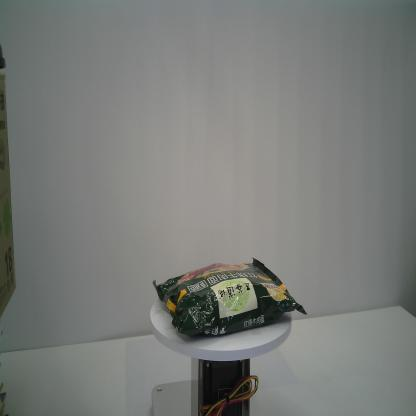Instant Noodles: (150, 254, 309, 342)
